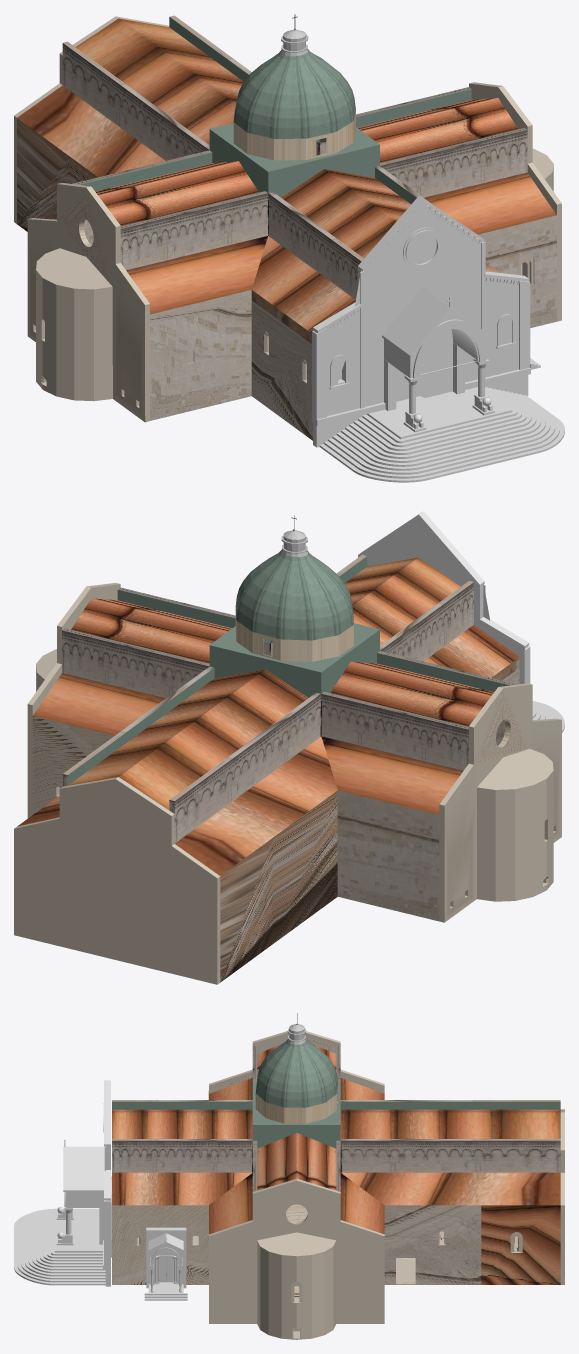
File: Duomo_vero.fbx
3 renders of one model, top to bottom at view 1: azimuth 30°, elevation 25°; view 2: azimuth 150°, elevation 25°; view 3: azimuth 270°, elevation 25°, orthographic. The views are drawn at different scales.
Parts seen in each view (by area): view 1: struttura, duomo_facciata_laterale_sx.002, Facciata, Scalinata, Duomo_facciata_principale.001, Lesene_Zoccolo, Protiro_Archivolto_Tetto, duomo_facciata_laterale_sx.001, Protiro_Colonne, Cornici_Archetti, Protiro_Volta, struttura.001 (+3 smaller); view 2: struttura, struttura.001, duomo_facciata_laterale_sx.002, Duomo_facciata_principale.001, Facciata, duomo_facciata_laterale_sx.001; view 3: struttura, duomo_facciata_laterale_sx.001, Scalinata, Duomo_facciata_principale.001, Portico_San_Ciriaco, Protiro_Archivolto_Tetto, duomo_facciata_laterale_sx.002, pavimentio, struttura.001, Facciata, Protiro_Volta, Lesene_Zoccolo.
Part boxes in pixels (x1,y1,x2,y2): struttura: (17,15,556,440); duomo_facciata_laterale_sx.002: (27,182,149,422); Facciata: (313,196,528,447); Scalinata: (319,387,564,482); Duomo_facciata_principale.001: (233,14,355,160); Lesene_Zoccolo: (312,242,530,425); Protiro_Archivolto_Tetto: (382,286,490,378); duomo_facciata_laterale_sx.001: (469,82,561,321); Protiro_Colonne: (384,342,489,417); Cornici_Archetti: (316,198,529,332); Protiro_Volta: (384,312,487,378); struttura.001: (14,16,169,223); struttura: (17,554,519,982); struttura.001: (14,777,220,984); duomo_facciata_laterale_sx.002: (439,683,561,922); Duomo_facciata_principale.001: (235,515,353,661); Facciata: (358,512,528,684); duomo_facciata_laterale_sx.001: (27,583,120,818); struttura: (112,1044,560,1284); duomo_facciata_laterale_sx.001: (209,1178,384,1339); Scalinata: (14,1208,105,1285); Duomo_facciata_principale.001: (255,1013,337,1123); Portico_San_Ciriaco: (144,1227,187,1300); Protiro_Archivolto_Tetto: (63,1139,104,1206); duomo_facciata_laterale_sx.002: (208,1031,384,1099); pavimentio: (137,1204,518,1336); struttura.001: (560,1109,564,1284); Facciata: (105,1080,111,1286); Protiro_Volta: (66,1192,103,1207); Lesene_Zoccolo: (103,1146,110,1269).
Size of the model in its own units: 4955 by 2949 by 6266.
